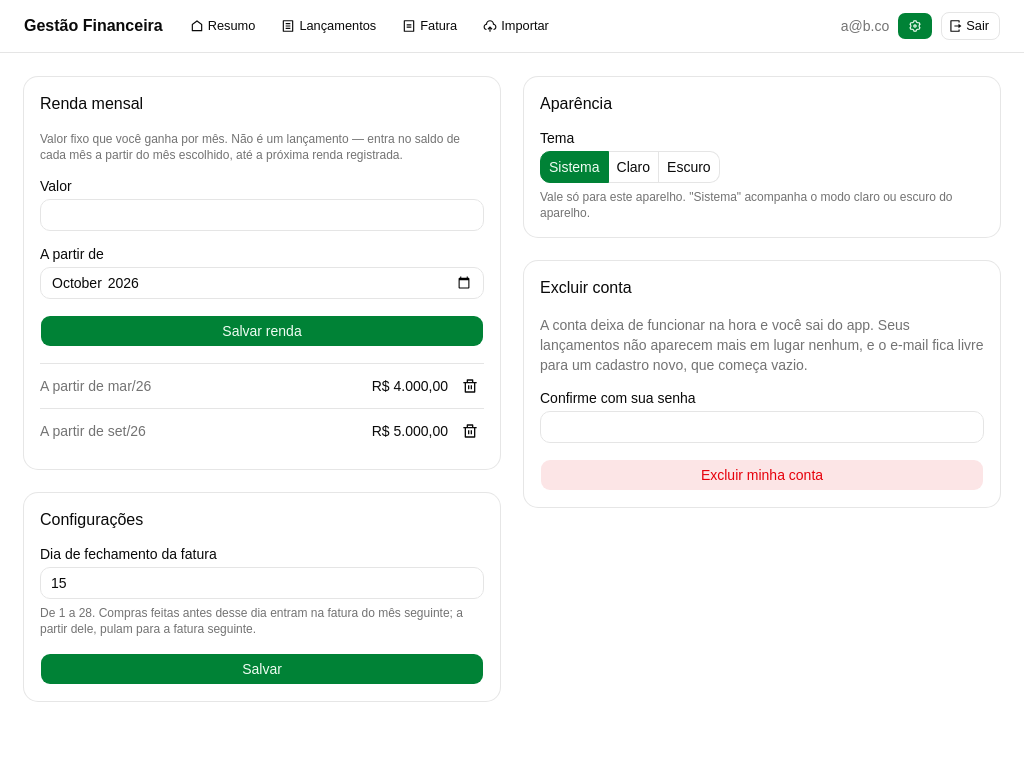
Test case: ConfigScreen › a renda mensal › salvar de novo no mesmo mês substitui a linha
The width and height of the screenshot is (1024, 768).
Expected: the list named "Rendas registradas" is shown, [40, 363, 484, 453]
In the number field labelled "Valor": point(262, 215) [40, 199, 484, 231], type "5500"
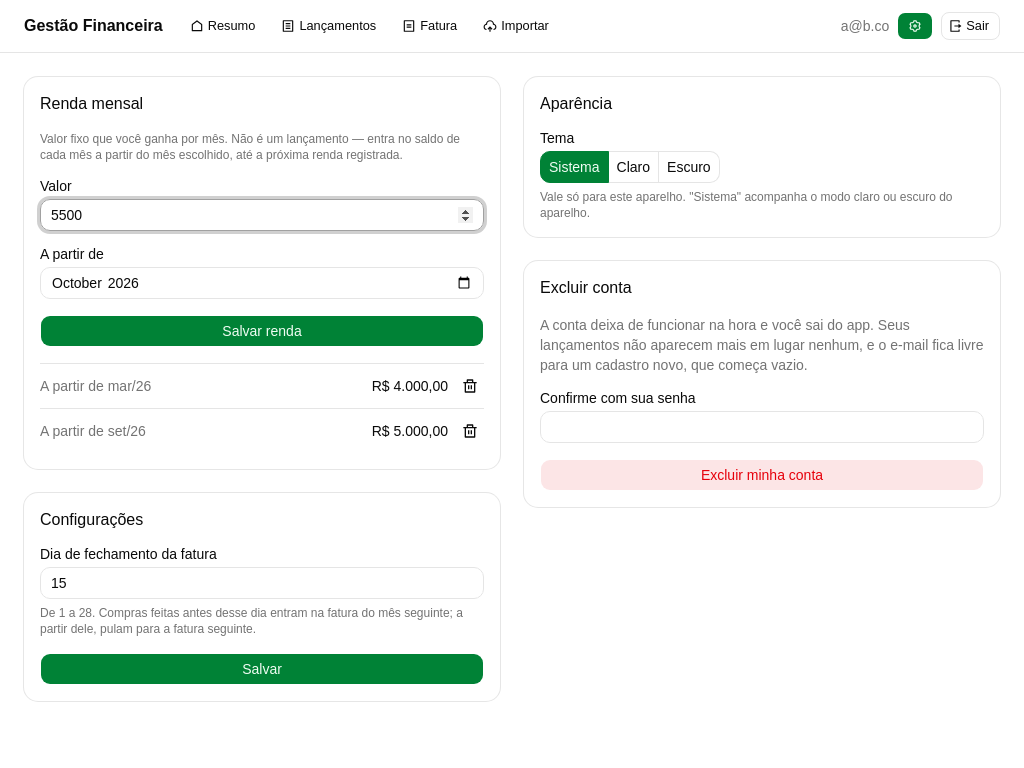
Replace the text in the field labelled "A partir de" with "2026-09": point(262, 283) [40, 267, 484, 299]
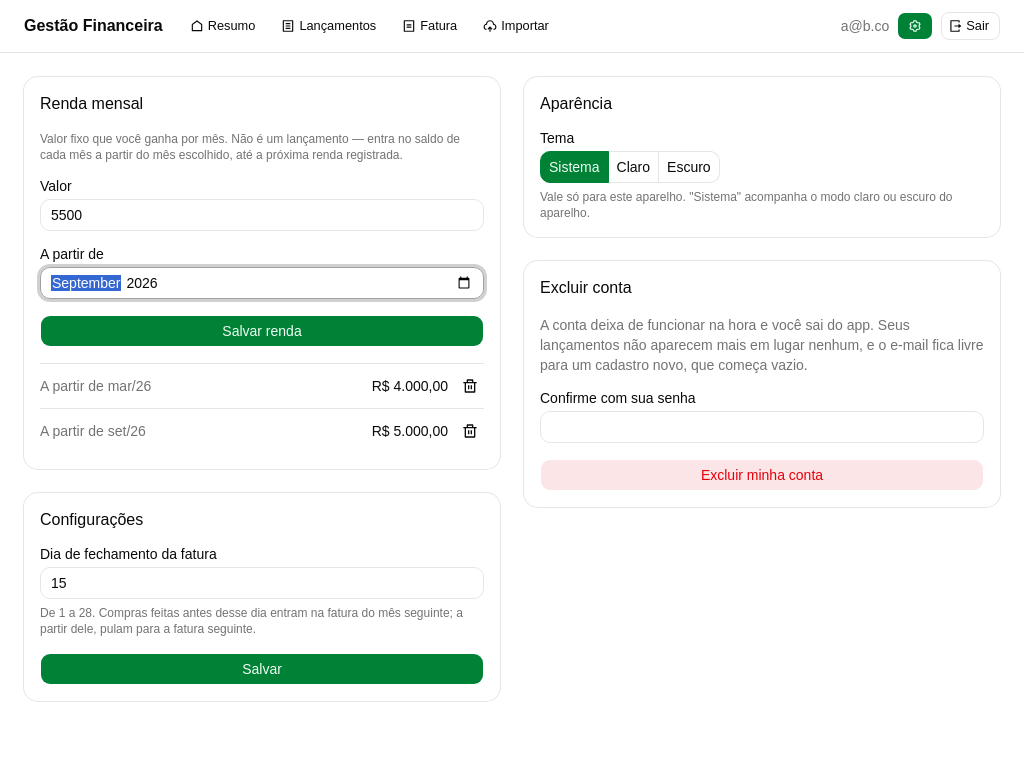
Click the button "Salvar renda": point(262, 331) [40, 315, 484, 347]
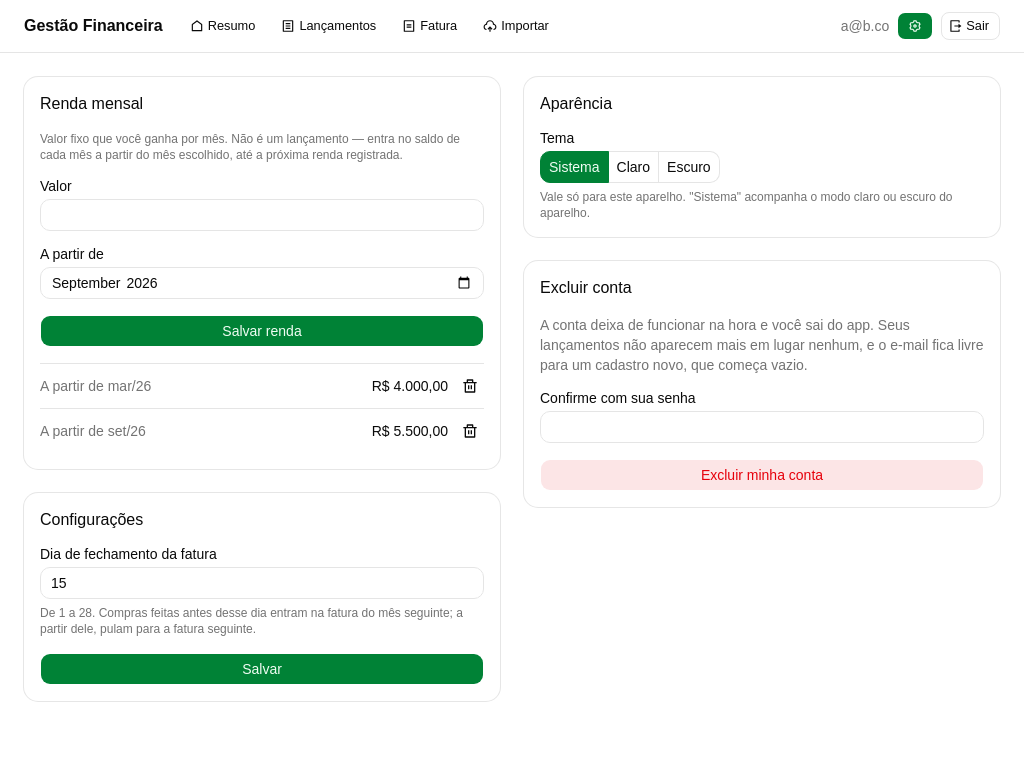
Expected: the number of list items is 2, [40, 364, 484, 409]; [40, 409, 484, 453]
Now the text "R$ 5.500,00" is shown, box [372, 421, 448, 441]
